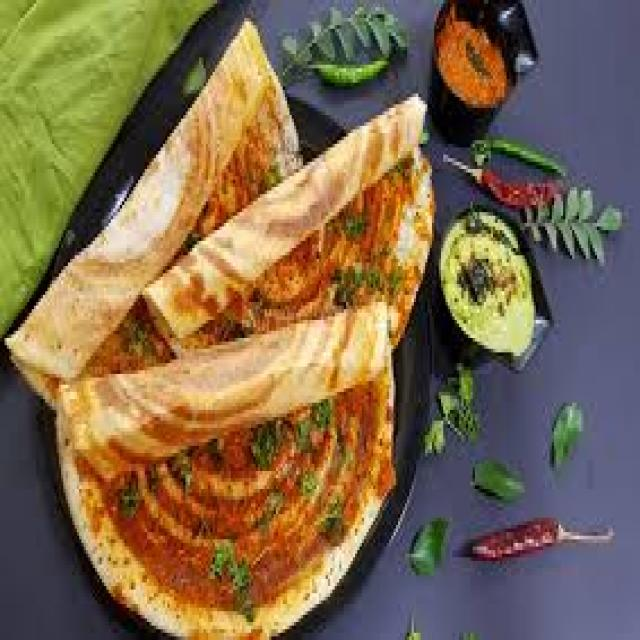DOSA: (58, 304, 397, 636), (10, 22, 300, 385), (143, 92, 433, 357)
